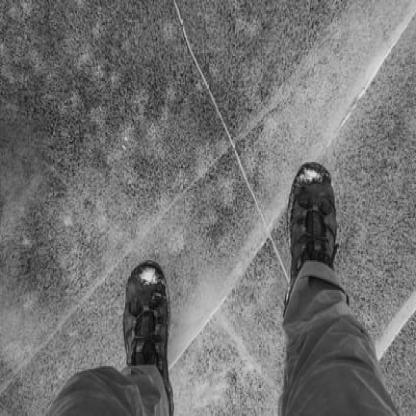ankle: (159, 366, 162, 370), (300, 269, 302, 274)
heel: (288, 300, 291, 306), (171, 406, 174, 411)
left_foot: (126, 262, 176, 416)
pinky: (129, 286, 132, 292), (328, 181, 331, 186)
right_foot: (286, 163, 338, 313)
toe: (156, 274, 161, 281), (299, 179, 304, 185)
